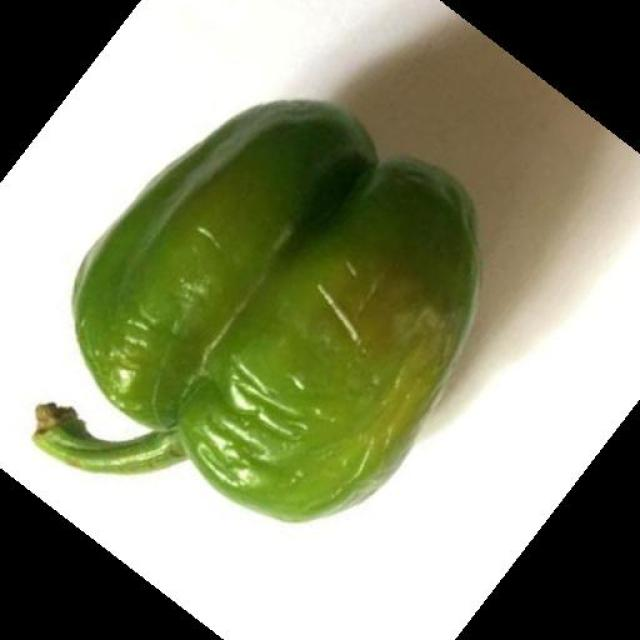Stale_Capsicum: (80, 142, 492, 452)
